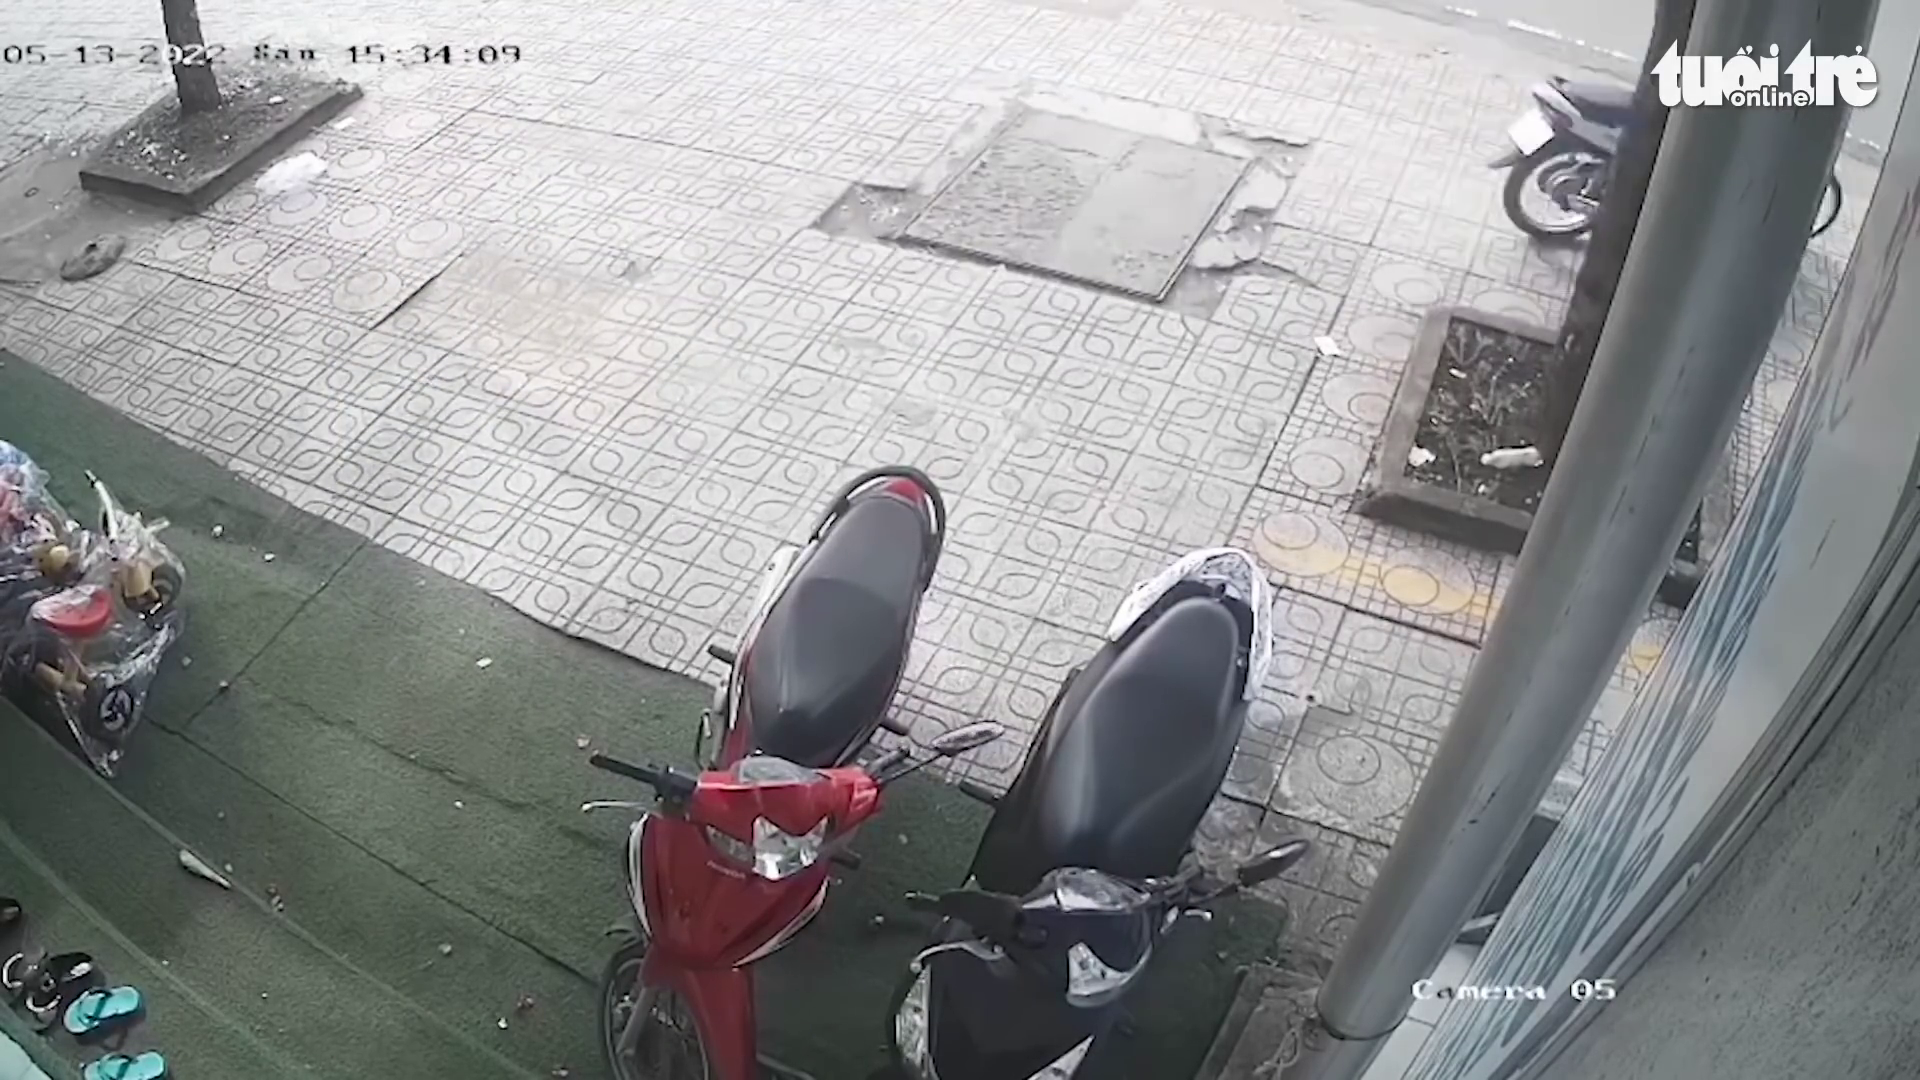Motorcycle: (578, 463, 1308, 1071), (1491, 76, 1635, 243)
